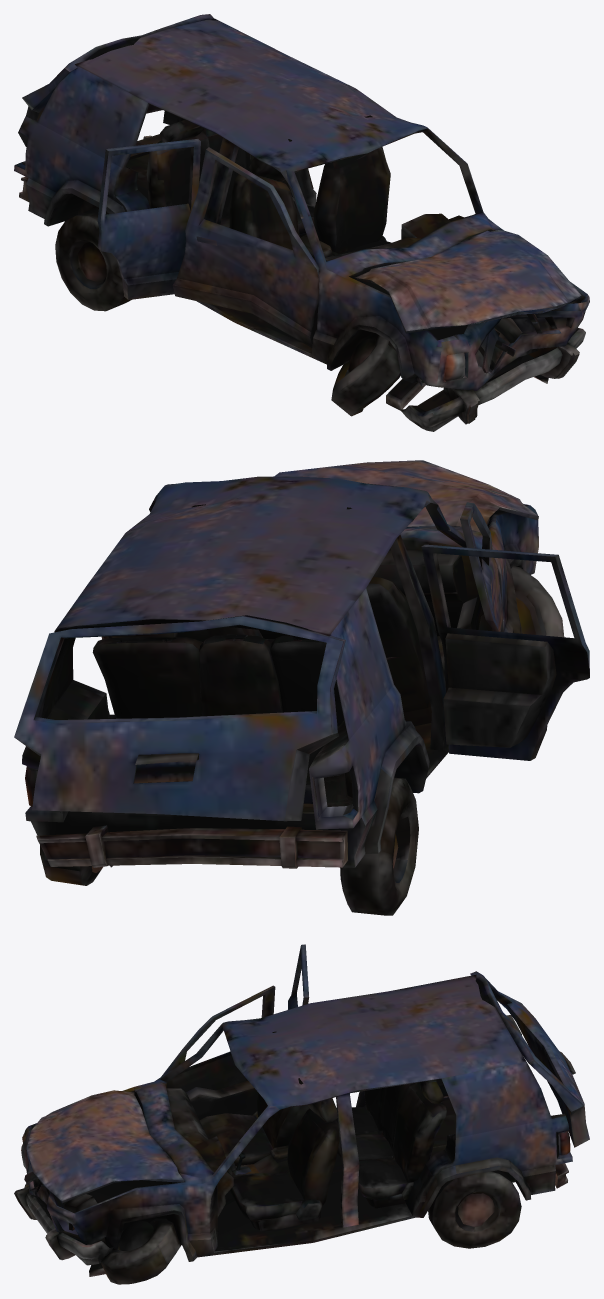
Rendered from p_car1.glb.
The picture shows the model from 3 angles, top to bottom: view 1: azimuth 30°, elevation 25°; view 2: azimuth 150°, elevation 25°; view 3: azimuth 270°, elevation 25°; orthographic projection. The views are drawn at different scales.
Parts seen in each view (by area): view 1: Object_4; view 2: Object_4; view 3: Object_4.
Part boxes in pixels (left/top/right/bottom): Object_4: left=14, top=14, right=589, bottom=431; Object_4: left=14, top=460, right=589, bottom=915; Object_4: left=14, top=944, right=589, bottom=1284.
Bounding box in the file's own units: 5.14 × 2.92 × 7.64.
1 material, 1 textured.
